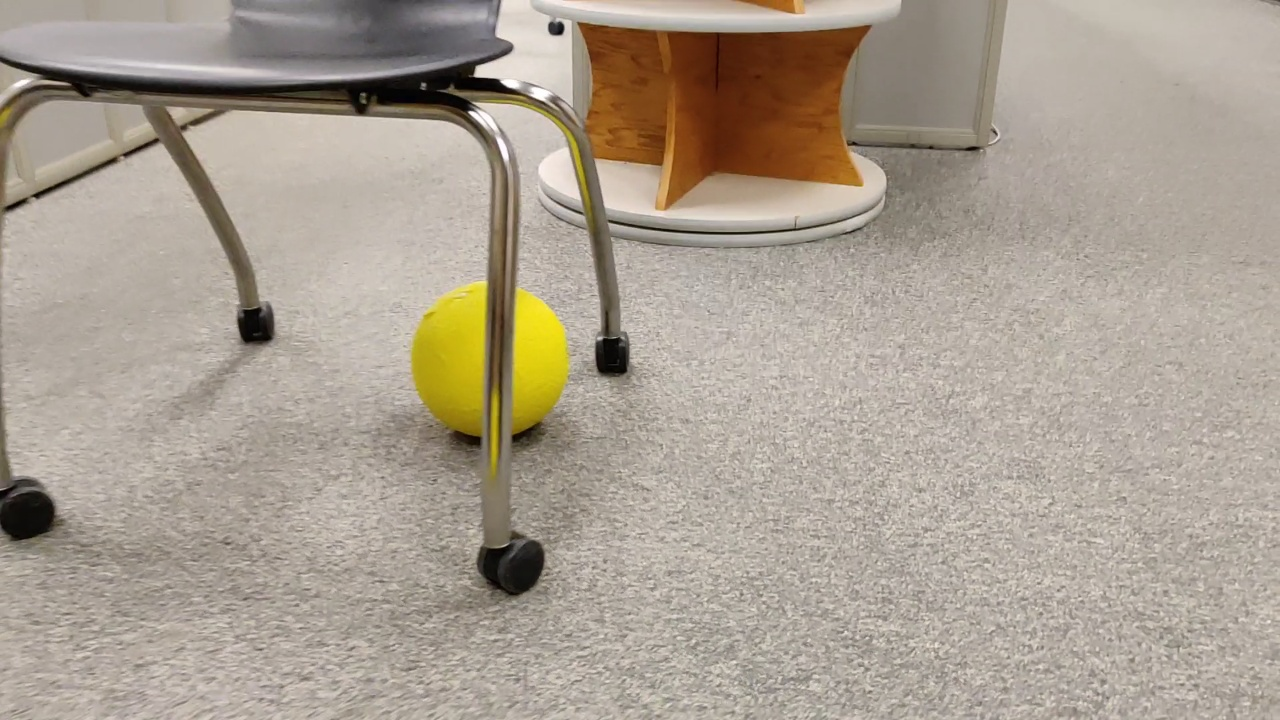Ball: (407, 281, 572, 438)
